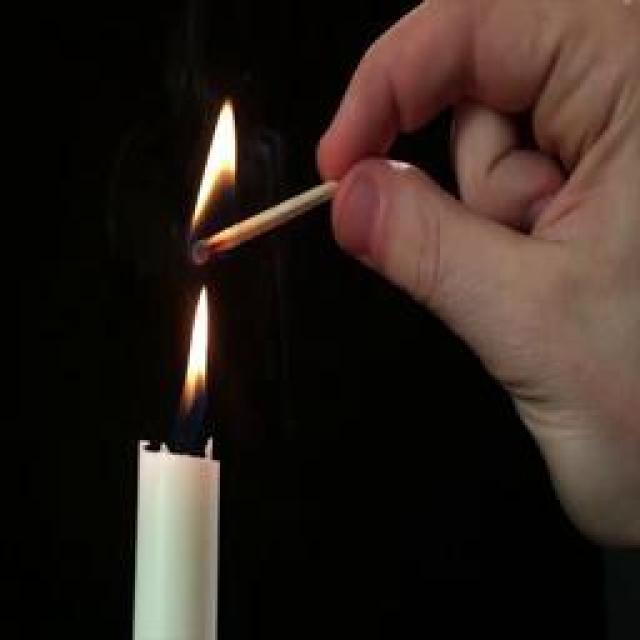Fire: (190, 100, 238, 235), (182, 285, 210, 410)
